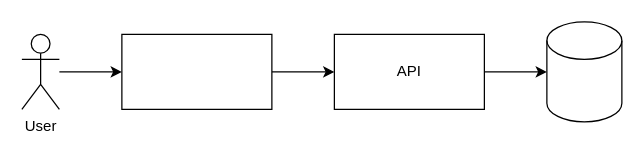
The diagram is 644 pixels wide and 158 high, and some of its shapes have lost their labels. The shapes that lost their labels are listed below. From the top down, each one's box as (x1, y1, x2, y2) in pixels, then its label:
(121, 33, 272, 109): UI
(546, 21, 622, 122): DB
